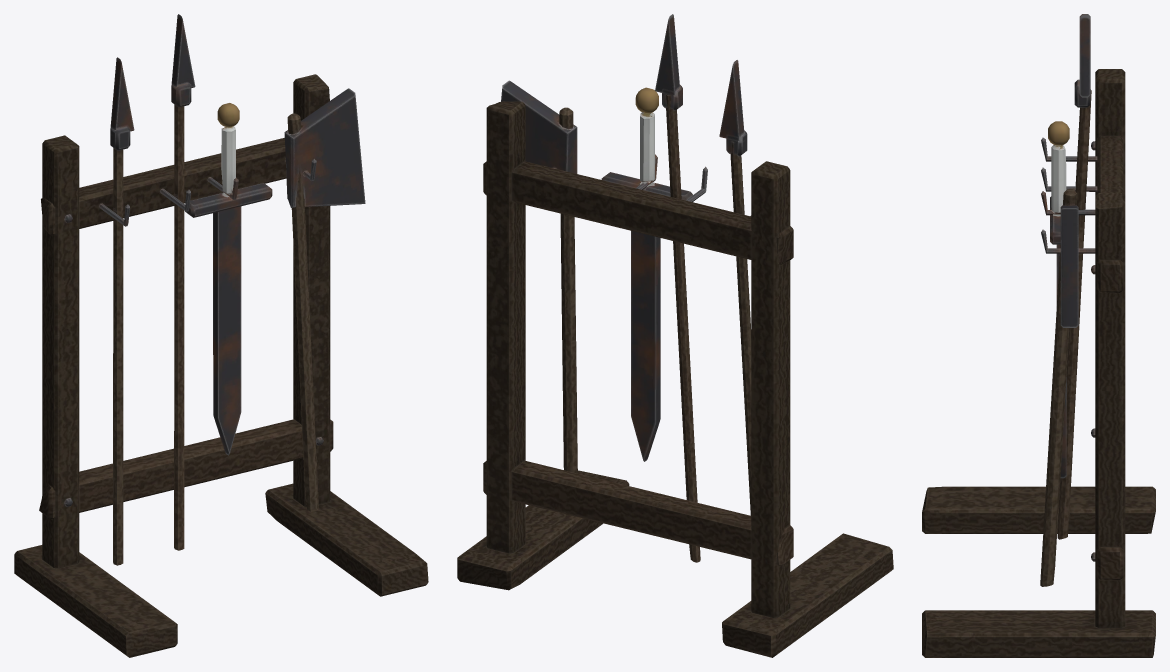
The model's file is weapon_rack.glb.
3 views of the same model, side by side, from view 1: azimuth 30°, elevation 25°; view 2: azimuth 150°, elevation 25°; view 3: azimuth 270°, elevation 25° (orthographic). The views are drawn at different scales.
Visible parts, largest first — view 1: weapon_rack; view 2: weapon_rack; view 3: weapon_rack.
Boxes of the visible parts, left/top/right/bottom form: weapon_rack: left=14, top=14, right=428, bottom=657; weapon_rack: left=457, top=14, right=893, bottom=657; weapon_rack: left=922, top=14, right=1155, bottom=657.
Bounding box in the file's own units: 0.905 × 1.56 × 0.59.
Materials: 1 (1 with a texture image).
